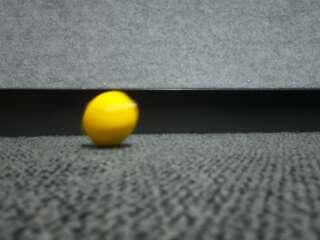lemon: (82, 90, 138, 146)
